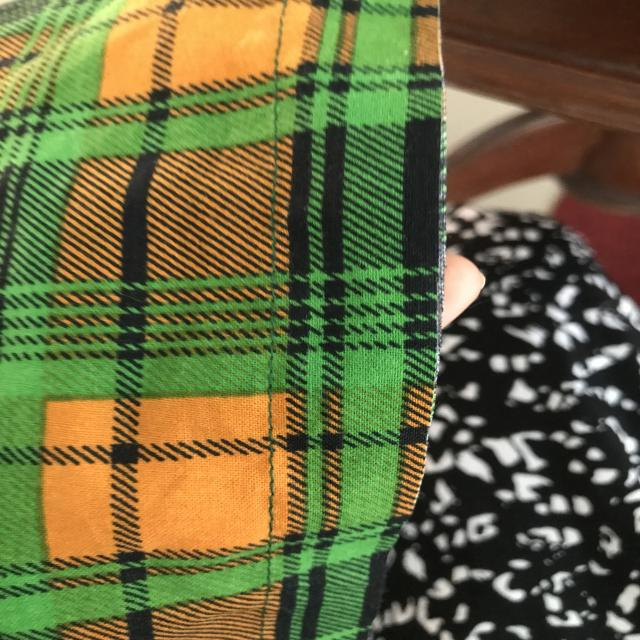good: (256, 461, 286, 524)
